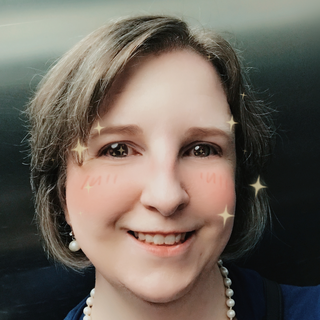eye: (95, 135, 146, 165), (175, 138, 226, 162)
